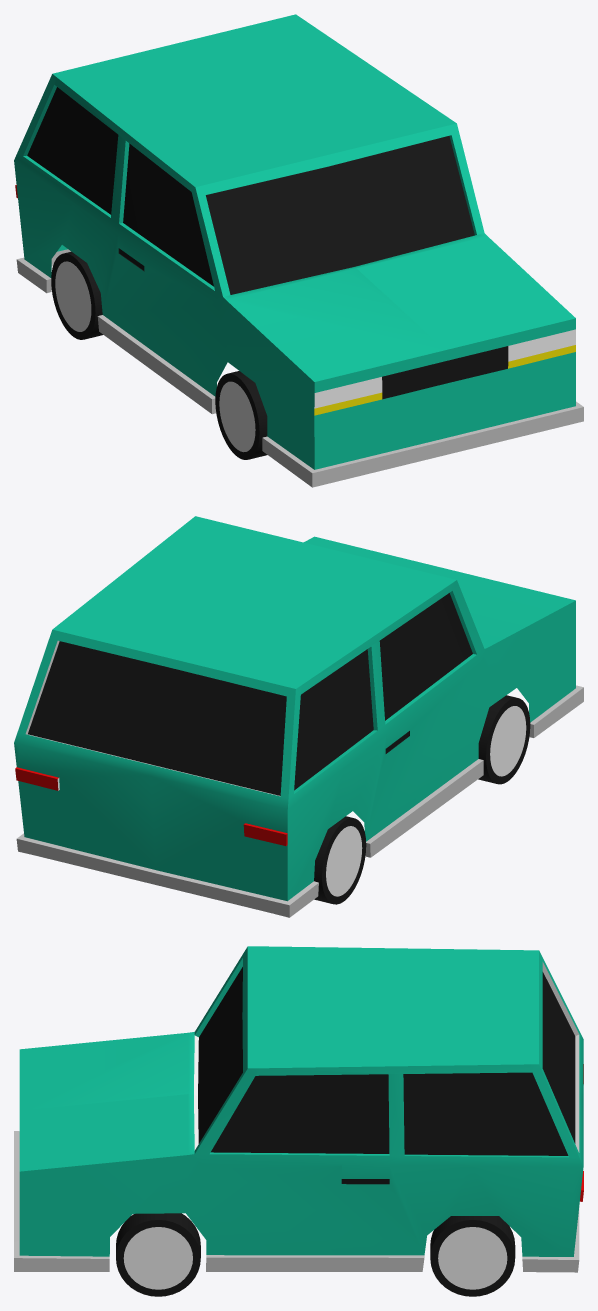
Rendered from car.obj.
The picture shows the model from 3 angles, top to bottom: view 1: azimuth 30°, elevation 25°; view 2: azimuth 150°, elevation 25°; view 3: azimuth 270°, elevation 25°; orthographic projection. The views are drawn at different scales.
Visible parts, largest first — view 1: Cube, Cylinder.1, Cylinder; view 2: Cube, Cylinder.1, Cylinder; view 3: Cube, Cylinder.2, Cylinder.3.
Part boxes in pixels (box(x1,y1,x2,y2)): Cube: box(14, 14, 583, 487); Cylinder.1: box(215, 371, 267, 459); Cylinder: box(51, 251, 102, 339); Cube: box(14, 516, 583, 917); Cylinder.1: box(478, 695, 530, 784); Cylinder: box(314, 816, 366, 904); Cube: box(14, 946, 583, 1272); Cylinder.2: box(116, 1213, 200, 1296); Cylinder.3: box(430, 1216, 515, 1296).
Bounding box in the file's own units: 401 × 326 × 750.
